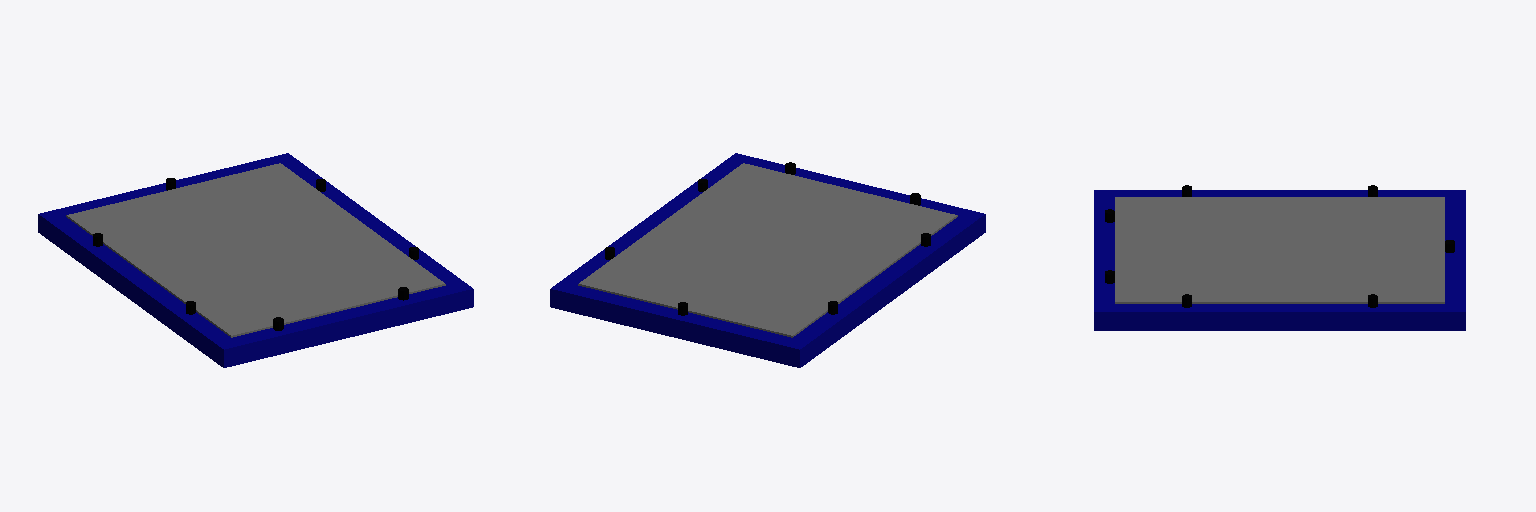
File: ustTahta.obj
3 views of the same model, side by side, from view 1: azimuth 30°, elevation 25°; view 2: azimuth 150°, elevation 25°; view 3: azimuth 270°, elevation 25° (orthographic).
Visible parts, largest first — view 1: Box002, Box001; view 2: Box002, Box001; view 3: Box002, Box001.
Part boxes in pixels (x1,y1,x2,y2): Box002: (66, 163, 445, 337); Box001: (38, 153, 473, 367); Box002: (578, 163, 957, 337); Box001: (550, 153, 985, 367); Box002: (1115, 197, 1444, 303); Box001: (1094, 190, 1465, 330).
Bounding box in the file's own units: 28 × 3 × 36.